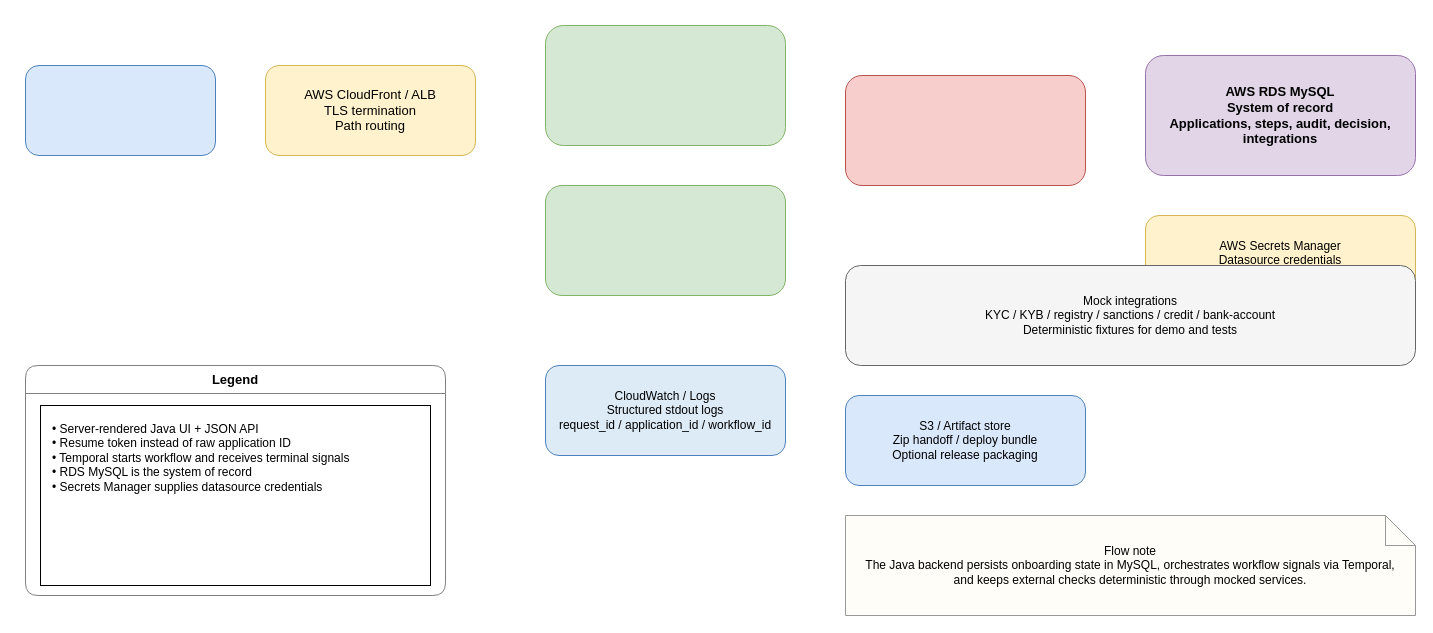
Image size: 1433x633. Some labels were removed from this diagram. Here are the shapes that lost their labels. From the top down, the centre of each, then its label:
At pixel 665 85: "Java App Host Spring Boot Web/API Thymeleaf + REST + Validation".
At pixel 120 110: "Customer / Interviewer Browser".
At pixel 965 130: "Temporal Cluster Workflow engine Task queue: onboarding".
At pixel 665 240: "Java Worker / Orchestration Host Temporal worker Workflow polling and signals".
